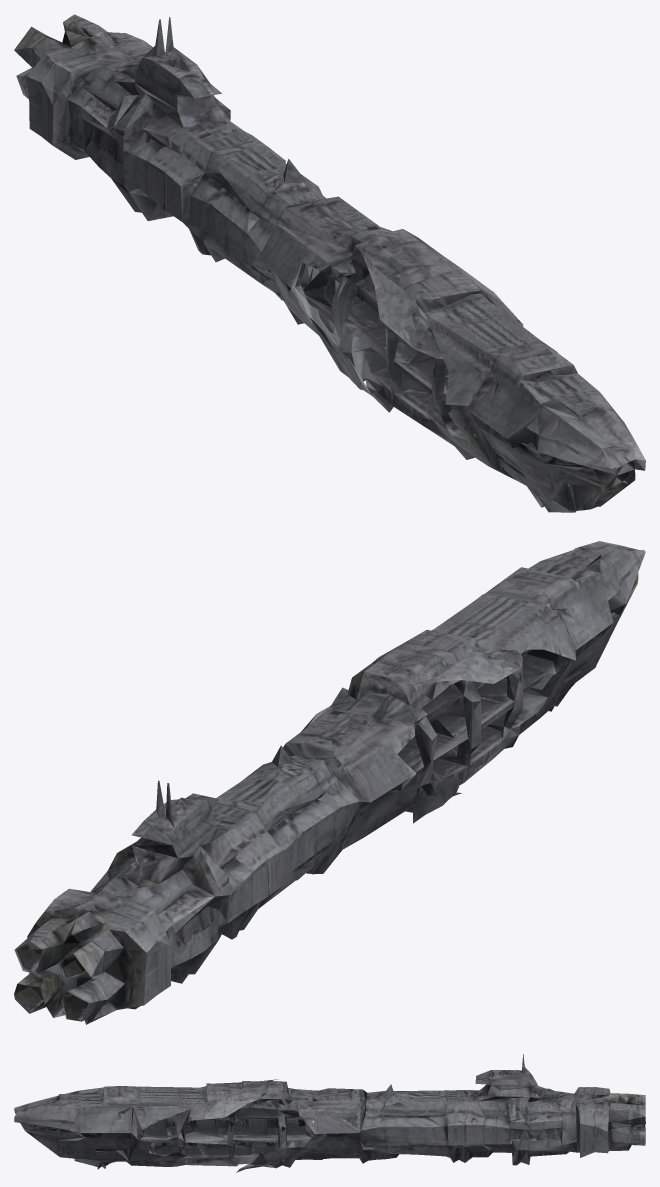
File: shared_derelict_hulk_lod2.glb
3 views of the same model, one above another, from view 1: azimuth 30°, elevation 25°; view 2: azimuth 150°, elevation 25°; view 3: azimuth 270°, elevation 25° (orthographic). The views are drawn at different scales.
Visible parts, largest first — view 1: mesh_node; view 2: mesh_node; view 3: mesh_node.
Boxes of the visible parts, x1,y1,x2,y2 form: mesh_node: (14, 14, 645, 512); mesh_node: (14, 541, 645, 1024); mesh_node: (14, 1054, 645, 1172).
Size of the model in its own units: 93.56 by 142 by 715.
1 material, 1 textured.
